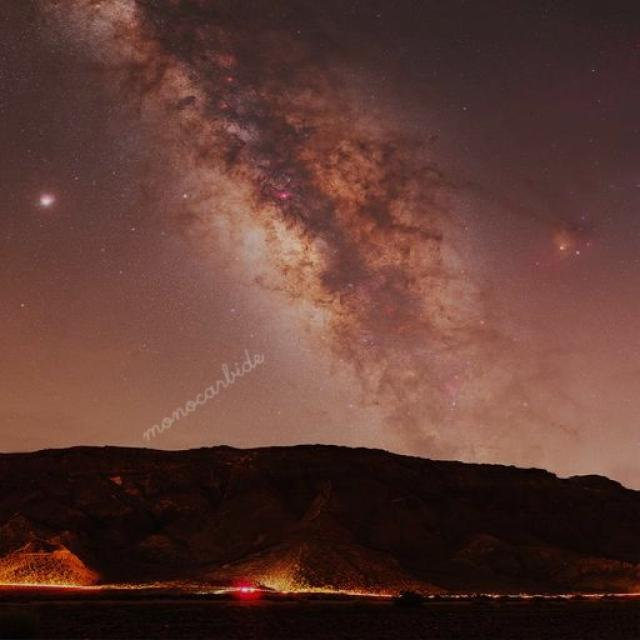watermark: (139, 336, 265, 446)
